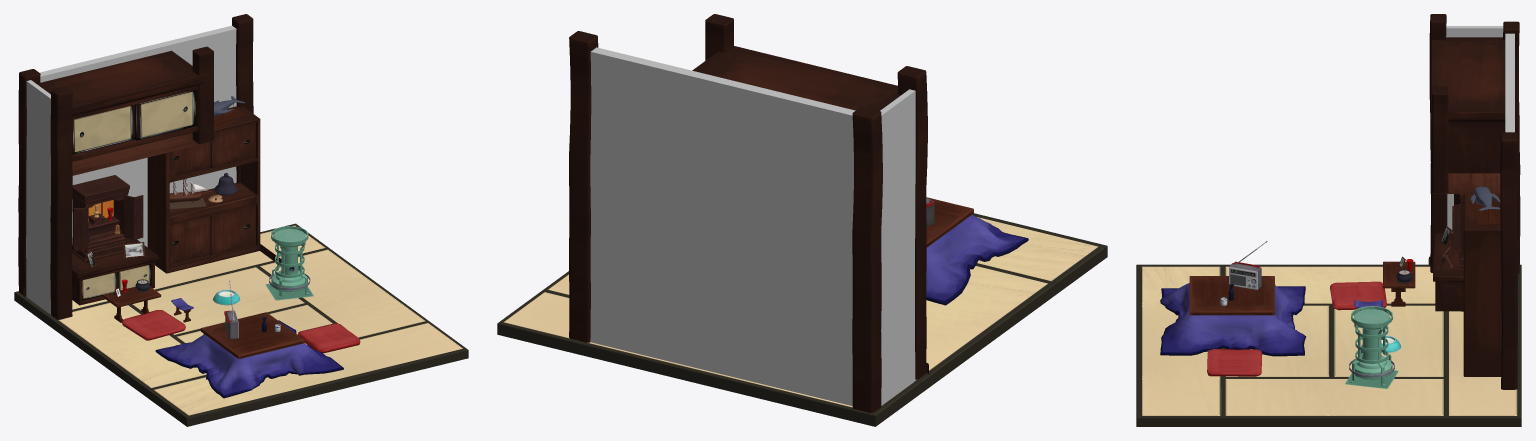
File: Akiya.fbx
3 renders of one model, left to right at view 1: azimuth 30°, elevation 25°; view 2: azimuth 150°, elevation 25°; view 3: azimuth 270°, elevation 25°, orthographic. The views are drawn at different scales.
Parts seen in each view (by area): view 1: Cube.002, armoire_geo, coffregros_geo1, petitmur_geo, petitmur_geo.001, couverture_geo, Cube.001, coffregros_geo, butsudan_geo, table_geo, Cube.005, Cube.003 (+13 smaller); view 2: petitmur_geo, Cube.002, petitmur_geo.001, Cube.005, Cube.006, coffregros_geo1, couverture_geo, Cube.001, table_geo, Cube.004; view 3: Cube.002, coffregros_geo1, couverture_geo, armoire_geo, Cube.006, table_geo, coffregros_geo, Cube.004, Cube.001, coussin_geo, peole_geo, coussin_geo.001 (+11 smaller).
Boxes of the visible parts, <box> form: Cube.002: <box>14,223,468,426</box>; armoire_geo: <box>147,106,260,273</box>; coffregros_geo1: <box>37,50,204,161</box>; petitmur_geo: <box>39,25,236,247</box>; petitmur_geo.001: <box>26,80,63,320</box>; couverture_geo: <box>155,320,343,398</box>; Cube.001: <box>50,86,72,319</box>; coffregros_geo: <box>72,238,158,305</box>; butsudan_geo: <box>72,175,129,262</box>; table_geo: <box>200,312,304,358</box>; Cube.005: <box>18,69,40,296</box>; Cube.003: <box>72,132,211,175</box>; petitmur_geo: <box>590,47,855,405</box>; Cube.002: <box>497,213,1107,426</box>; petitmur_geo.001: <box>880,89,916,405</box>; Cube.005: <box>852,106,882,412</box>; Cube.006: <box>569,31,598,342</box>; coffregros_geo1: <box>692,46,900,110</box>; couverture_geo: <box>926,214,1028,305</box>; Cube.001: <box>897,66,927,379</box>; table_geo: <box>926,197,973,247</box>; Cube.004: <box>705,14,733,60</box>; Cube.002: <box>1136,264,1521,426</box>; coffregros_geo1: <box>1431,37,1505,173</box>; couverture_geo: <box>1160,283,1306,356</box>; armoire_geo: <box>1463,194,1501,376</box>; Cube.006: <box>1500,132,1517,389</box>; table_geo: <box>1189,276,1274,315</box>; coffregros_geo: <box>1433,233,1463,311</box>; Cube.004: <box>1432,86,1448,193</box>; Cube.001: <box>1429,14,1447,272</box>; coussin_geo: <box>1207,349,1262,376</box>; peole_geo: <box>1352,309,1392,379</box>; coussin_geo.001: <box>1330,281,1386,310</box>.
Size of the model in its own units: 818 by 665 by 870.
